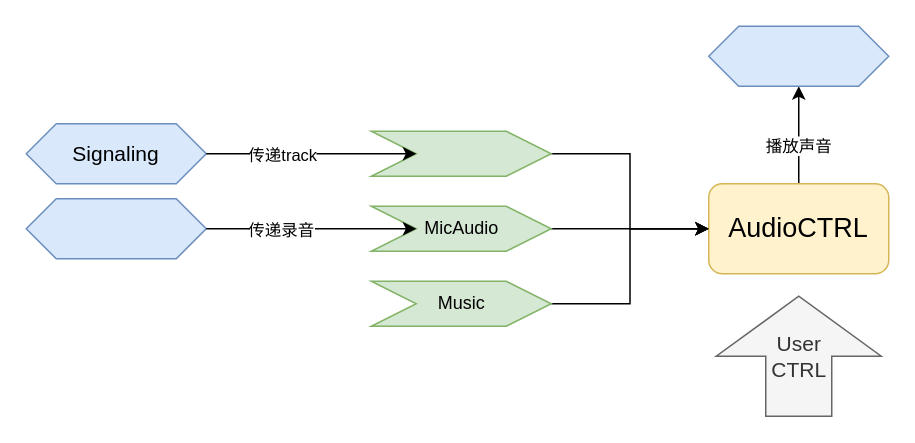
Image size: 915x443. Some labels were removed from this diagram. The centre of each missing label's shape, as x and y in pixels:
"AudioPlayer" belongs at pixel 798 55.
"AudioRecorder" belongs at pixel 115 228.
"WebAudio" belongs at pixel 460 153.
